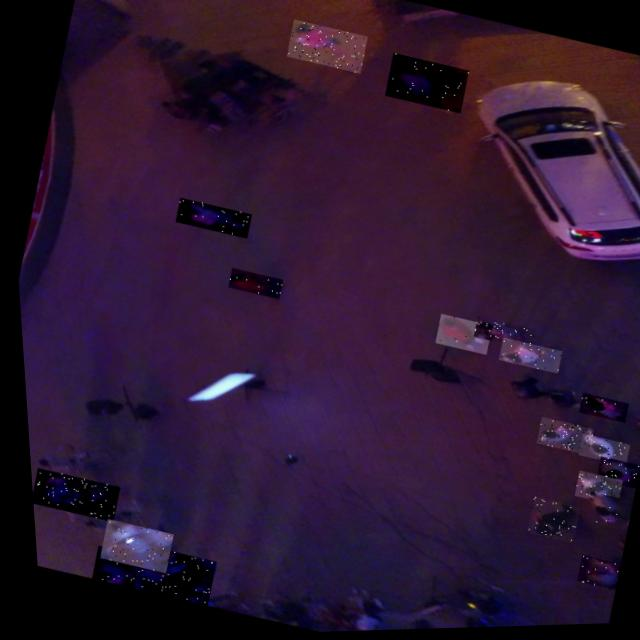Person: (123, 542, 210, 608), (381, 53, 470, 117), (82, 543, 177, 601), (24, 464, 114, 523), (283, 19, 368, 76), (90, 517, 168, 575), (171, 195, 250, 240), (517, 497, 575, 547), (492, 336, 558, 376), (429, 314, 489, 357), (529, 417, 589, 459), (467, 316, 531, 354), (576, 493, 627, 534), (223, 266, 280, 301), (566, 471, 617, 509), (571, 435, 624, 470), (567, 556, 614, 593), (571, 394, 624, 426), (588, 457, 634, 492)
